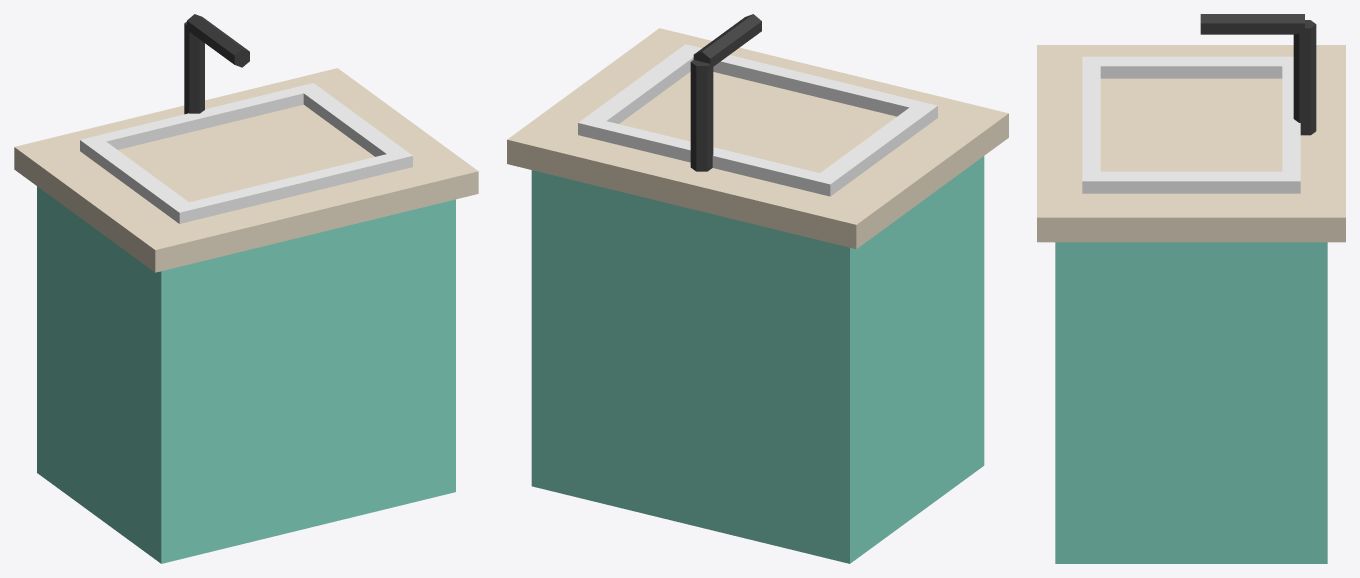
3 views of the same model, side by side, from view 1: azimuth 30°, elevation 25°; view 2: azimuth 150°, elevation 25°; view 3: azimuth 270°, elevation 25° (orthographic). The views are drawn at different scales.
Visible parts, largest first — view 1: Cabinet, Counter, Basin rim.002, Basin rim.003, Basin rim, Basin rim.001, Faucet, Spout; view 2: Cabinet, Counter, Basin rim.003, Basin rim.002, Basin rim, Basin rim.001, Faucet, Spout; view 3: Cabinet, Counter, Basin rim.001, Basin rim, Faucet, Spout, Basin rim.002, Basin rim.003.
Boxes of the visible parts, x1,y1,x2,y2 form: Cabinet: [37, 186, 455, 563]; Counter: [14, 68, 478, 272]; Basin rim.002: [188, 154, 403, 221]; Basin rim.003: [89, 85, 312, 149]; Basin rim: [80, 137, 197, 223]; Basin rim.001: [303, 83, 412, 170]; Faucet: [184, 21, 204, 114]; Spout: [187, 14, 249, 67]; Cabinet: [531, 156, 984, 563]; Counter: [507, 28, 1008, 249]; Basin rim.003: [587, 119, 829, 193]; Basin rim.002: [713, 55, 917, 116]; Basin rim: [811, 101, 937, 196]; Basin rim.001: [578, 44, 701, 139]; Faucet: [690, 60, 713, 171]; Spout: [693, 14, 761, 68]; Cabinet: [1055, 242, 1327, 563]; Counter: [1037, 45, 1345, 242]; Basin rim.001: [1082, 171, 1300, 193]; Basin rim: [1082, 56, 1293, 78]; Faucet: [1293, 20, 1316, 135]; Spout: [1200, 14, 1304, 34]; Basin rim.002: [1082, 66, 1100, 171]; Basin rim.003: [1282, 61, 1300, 176].
Bounding box in the file's own units: 90 × 115 × 68.
